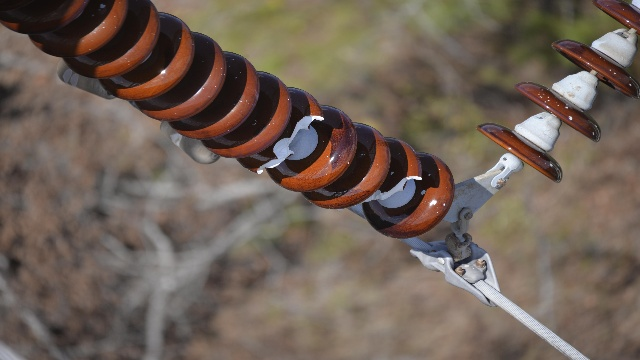broken_local: (253, 113, 326, 176)
insulator_unspecified: (1, 0, 457, 239), (477, 0, 639, 182)
